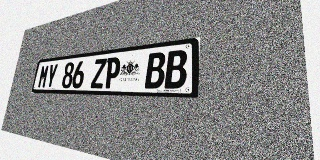6: (71, 60, 86, 88)
8: (61, 62, 75, 88)
B: (164, 49, 188, 89), (144, 52, 166, 88)
M: (37, 64, 50, 88)
P: (103, 57, 121, 88)
Y: (45, 64, 58, 88)
Z: (90, 58, 107, 88)
